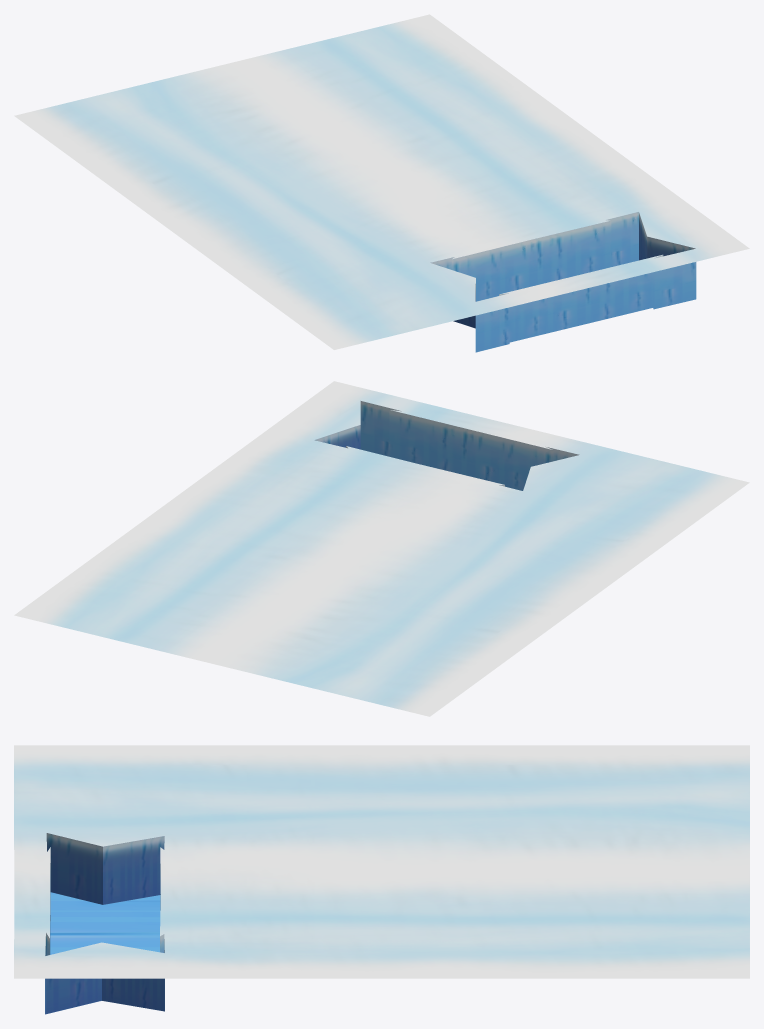
The model's file is Hole_L_Size_10.FBX.
3 views of the same model, one above another, from view 1: azimuth 30°, elevation 25°; view 2: azimuth 150°, elevation 25°; view 3: azimuth 270°, elevation 25° (orthographic). The views are drawn at different scales.
Visible parts, largest first — view 1: Object119; view 2: Object119; view 3: Object119.
Boxes of the visible parts, x1=… form: Object119: x1=14, y1=14, x2=749, y2=352; Object119: x1=14, y1=381, x2=749, y2=716; Object119: x1=14, y1=745, x2=749, y2=1014.
Size of the model in its own units: 600 by 70 by 800.
